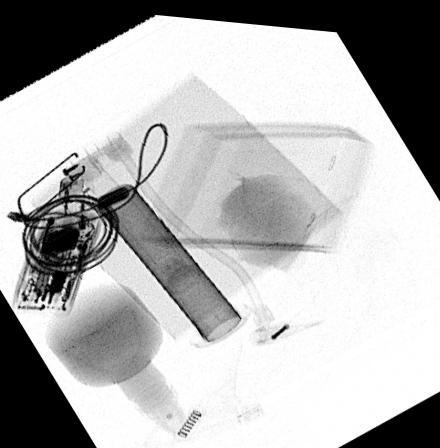Lighter: (57, 168, 96, 241)
